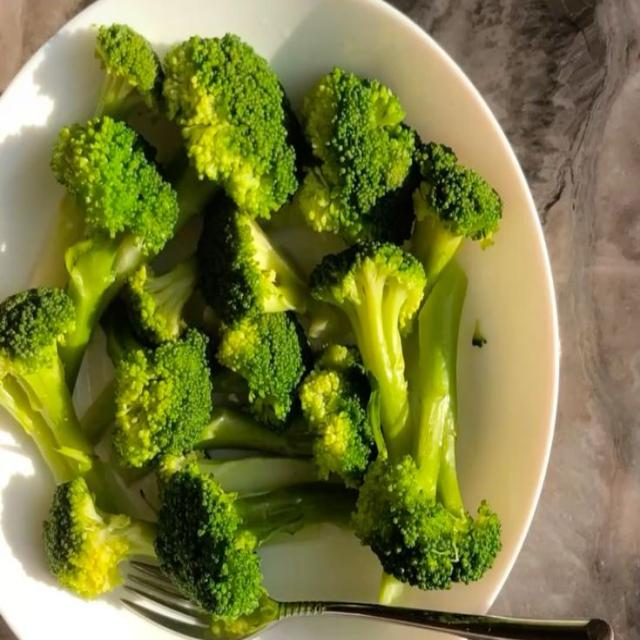broccoli: (354, 264, 500, 600), (83, 307, 311, 466), (52, 117, 178, 385), (155, 464, 356, 620), (0, 288, 130, 510), (163, 34, 297, 217), (310, 242, 425, 450), (296, 69, 414, 242), (0, 288, 93, 481), (197, 196, 308, 323), (114, 330, 212, 468), (44, 477, 155, 598), (44, 477, 154, 598), (411, 143, 502, 288), (216, 313, 308, 432), (299, 346, 375, 485), (157, 451, 316, 495), (94, 24, 163, 119), (95, 24, 163, 118), (125, 258, 196, 343), (195, 408, 312, 457)
